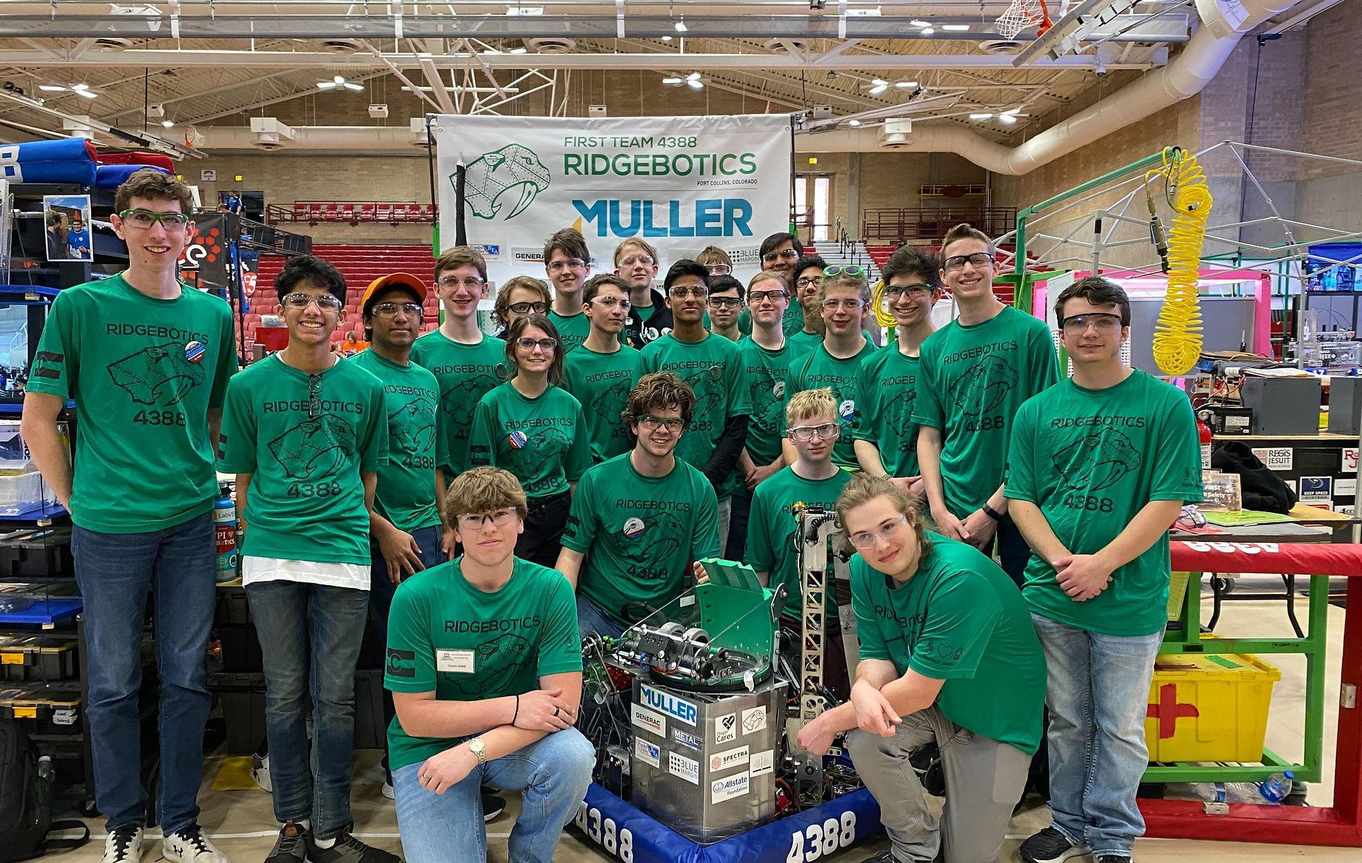robot: (549, 497, 908, 863)
